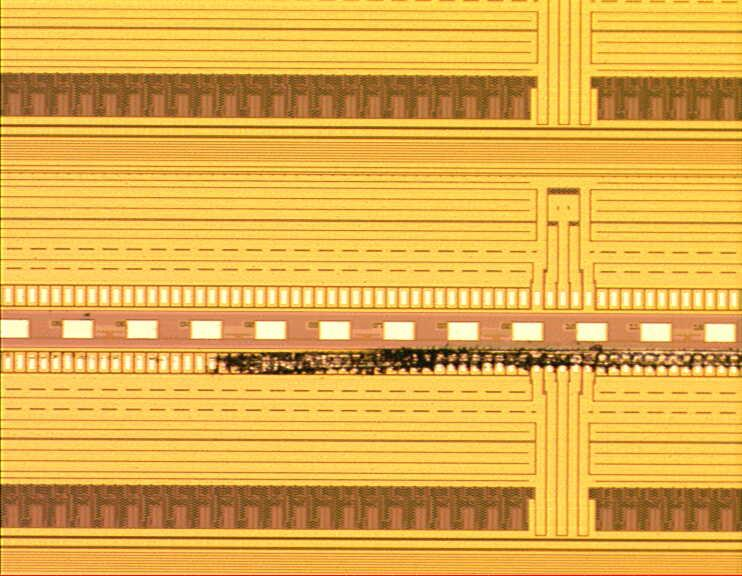SCRATCH: (203, 347, 742, 383)
